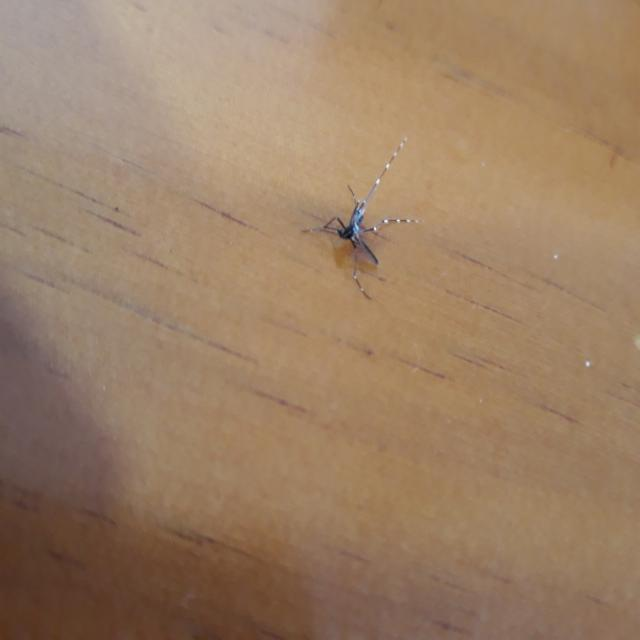albopictus: (296, 131, 429, 304)
